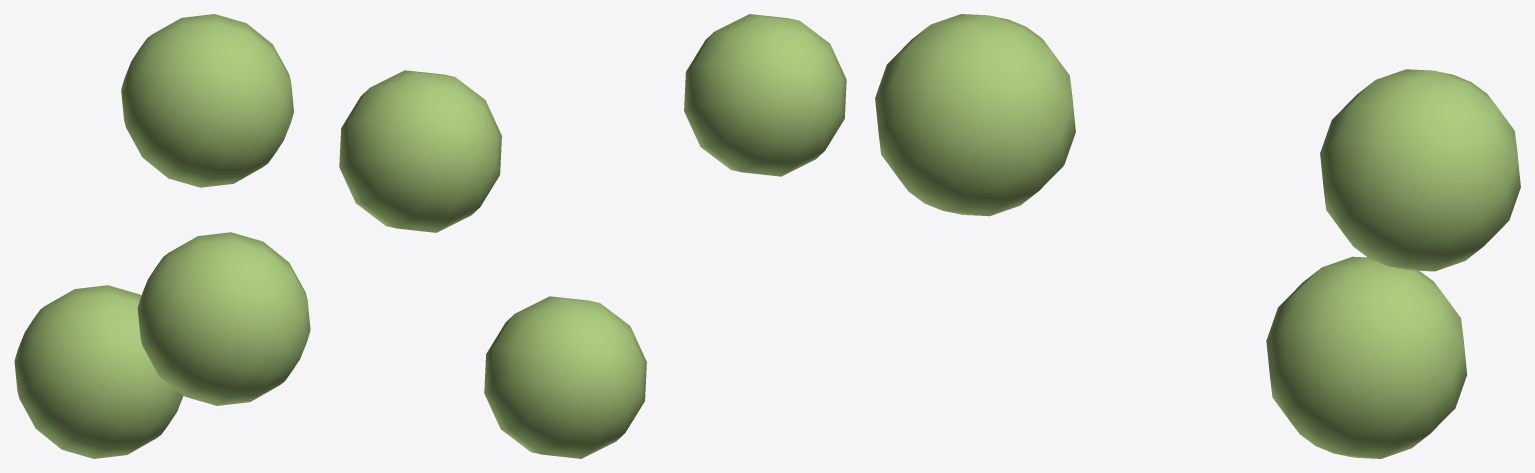
Rendered from pre-auricular-nodes-l.glb.
The picture shows the model from 3 angles, left to right: view 1: azimuth 30°, elevation 25°; view 2: azimuth 150°, elevation 25°; view 3: azimuth 270°, elevation 25°; orthographic projection. The views are drawn at different scales.
Parts seen in each view (by area): view 1: Pre-auricular nodes.l; view 2: Pre-auricular nodes.l; view 3: Pre-auricular nodes.l.
Boxes of the visible parts, x1=… form: Pre-auricular nodes.l: x1=14, y1=14, x2=310, y2=458; Pre-auricular nodes.l: x1=339, y1=14, x2=846, y2=458; Pre-auricular nodes.l: x1=875, y1=14, x2=1520, y2=458.
Size of the model in its own units: 0.00557 by 0.00625 by 0.0082.
